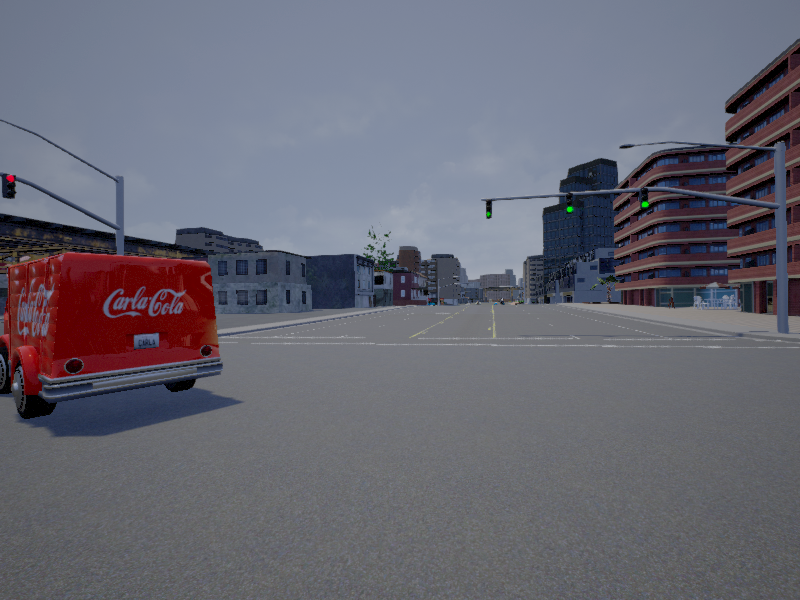Benign: (1, 258, 217, 419)
